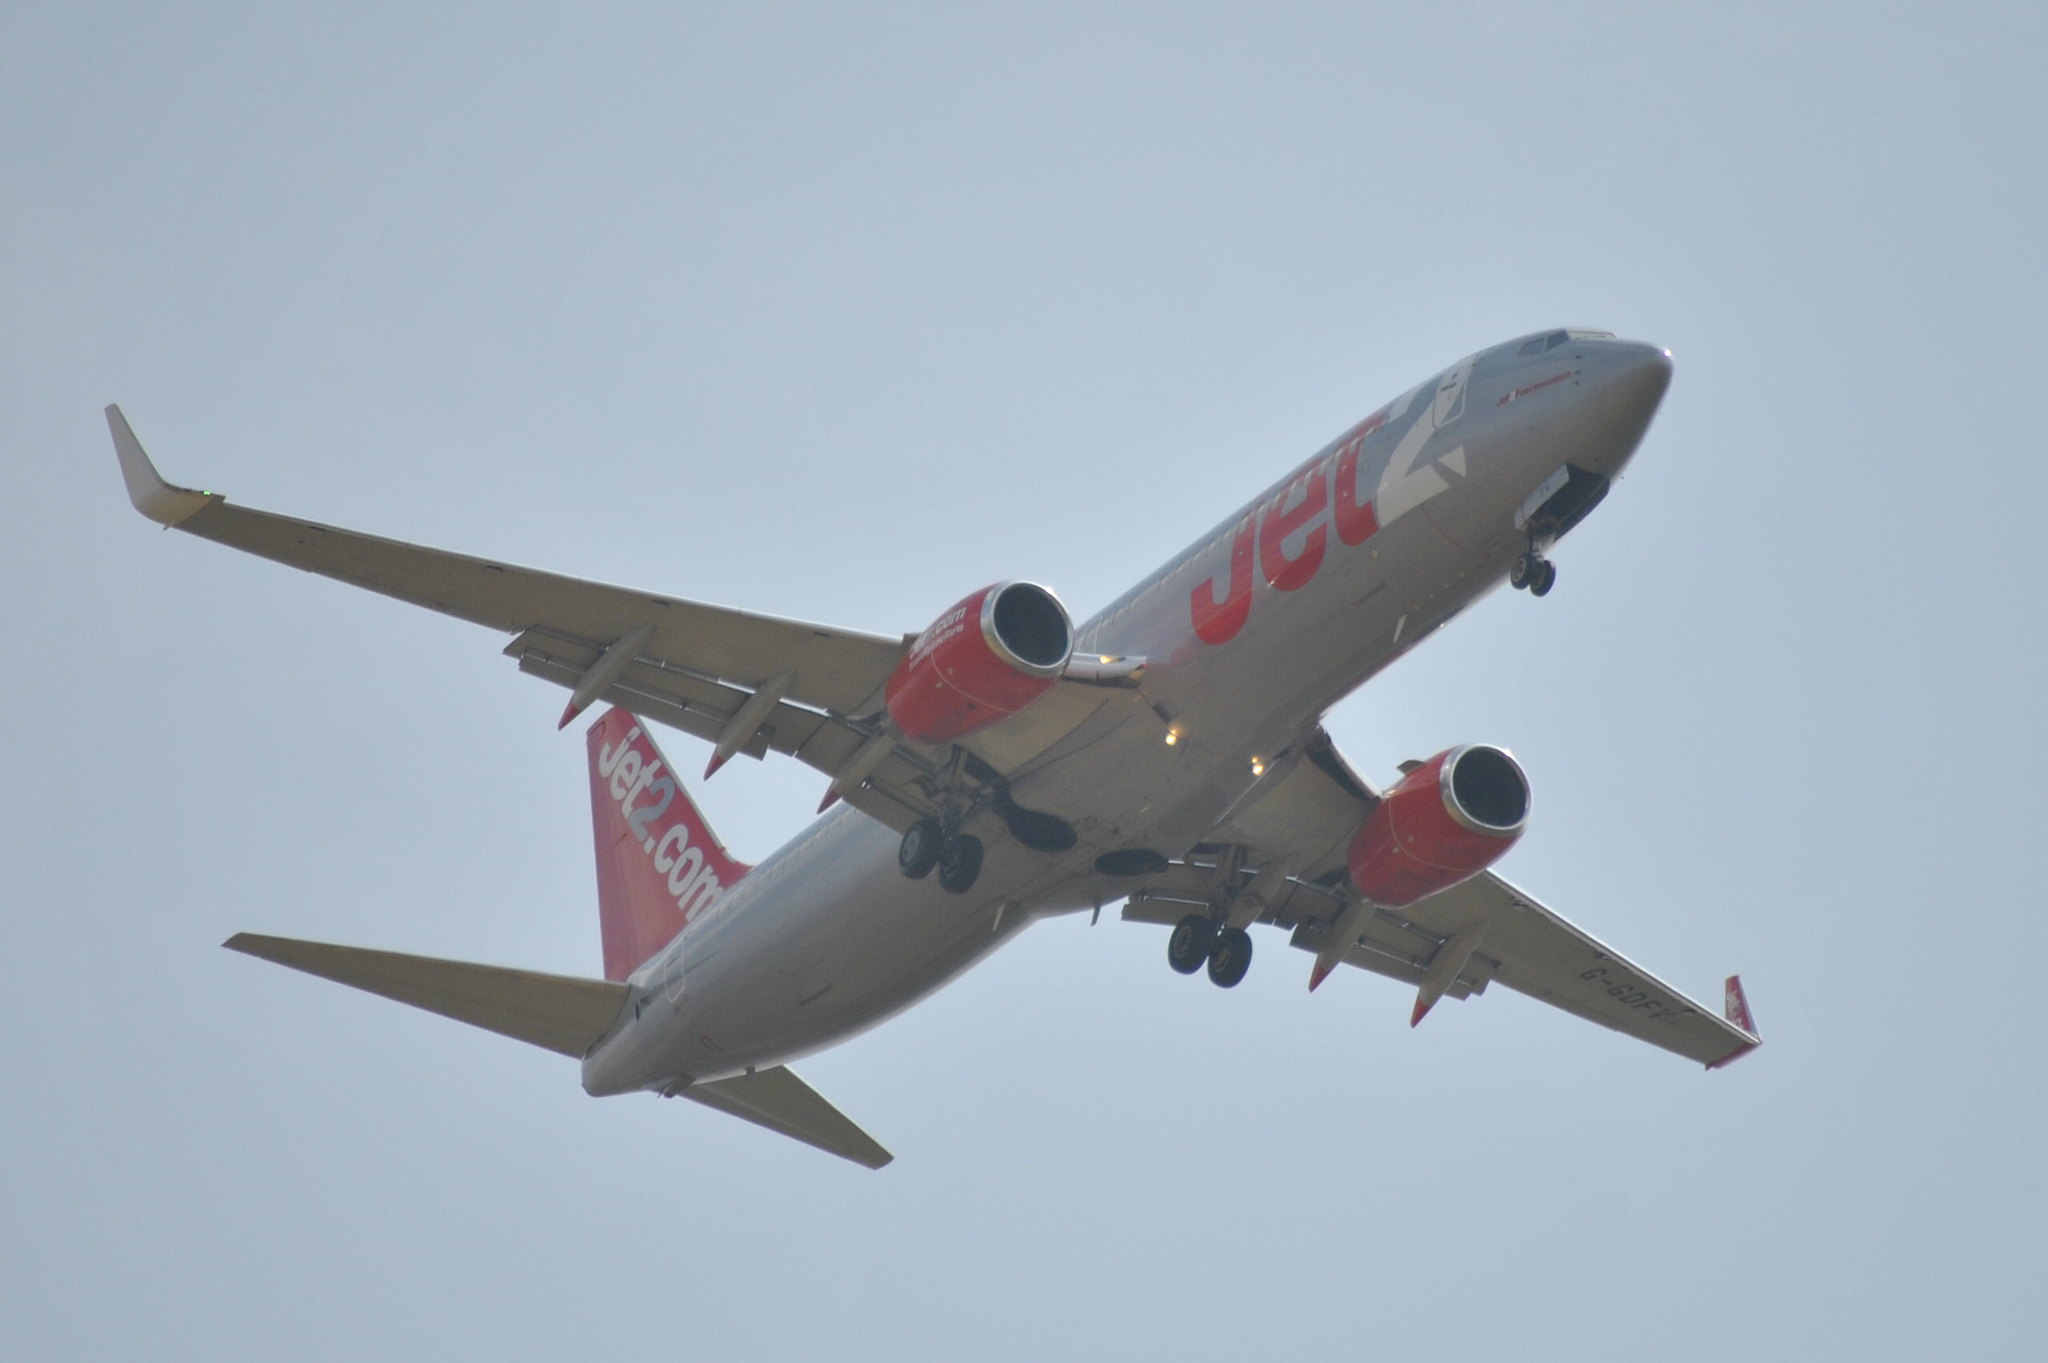aeroplane: (103, 322, 1764, 1171)
